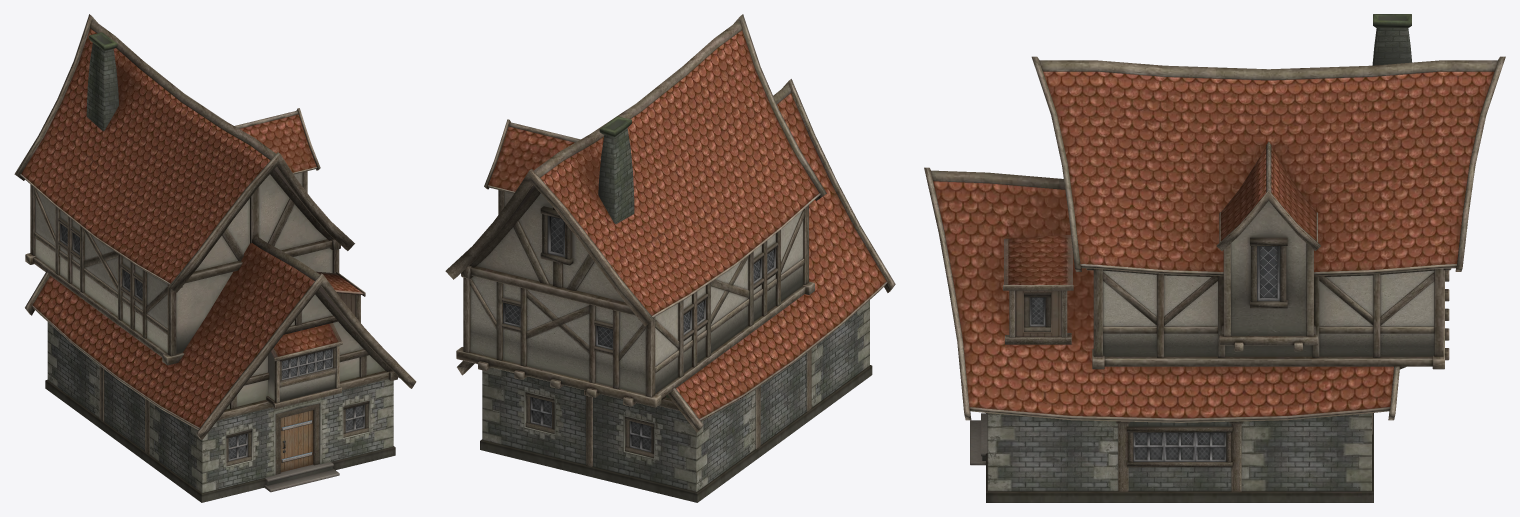
3 renders of one model, left to right at view 1: azimuth 30°, elevation 25°; view 2: azimuth 150°, elevation 25°; view 3: azimuth 270°, elevation 25°, orthographic. The views are drawn at different scales.
Visible parts, largest first — view 1: catiev, Wood_Wood_0, WallBrick_Wall Brick_0, Wall_Wall_0, bacaev, kapiev, pencereust, DoorAndWindow_Door And Window_0, pencereust.001, pencereust.002; view 2: catiev, Wood_Wood_0, WallBrick_Wall Brick_0, Wall_Wall_0, DoorAndWindow_Door And Window_0, bacaev, DoorAndWindow_Door And Window_0.006, DoorAndWindow_Door And Window_0.004; view 3: catiev, Wood_Wood_0, WallBrick_Wall Brick_0, Wall_Wall_0, DoorAndWindow_Door And Window_0, bacaev.
Boxes of the visible parts, x1,y1,x2,y2 form: catiev: (21,28,363,427); Wood_Wood_0: (14,14,416,474); WallBrick_Wall Brick_0: (45,322,395,502); Wall_Wall_0: (35,172,384,409); bacaev: (86,32,118,131); kapiev: (280,410,313,472); pencereust: (279,346,336,382); DoorAndWindow_Door And Window_0: (58,218,142,306); pencereust.001: (343,401,369,437); pencereust.002: (226,429,251,466); catiev: (488,30,886,418); Wood_Wood_0: (445,14,895,466); WallBrick_Wall Brick_0: (480,300,872,502); Wall_Wall_0: (470,191,803,397); DoorAndWindow_Door And Window_0: (502,206,777,354); bacaev: (598,116,634,223); DoorAndWindow_Door And Window_0.006: (525,392,554,433); DoorAndWindow_Door And Window_0.004: (625,416,653,457); catiev: (933,71,1494,418); Wood_Wood_0: (924,56,1505,491); WallBrick_Wall Brick_0: (970,413,1373,502); Wall_Wall_0: (1015,201,1434,356); DoorAndWindow_Door And Window_0: (1024,237,1287,467); bacaev: (1372,14,1412,65).
Bounding box in the file's own units: 8.19 × 11.46 × 14.84.
5 materials, 5 textured.
